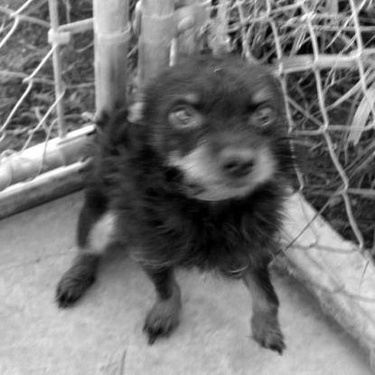dog: (53, 45, 301, 356)
